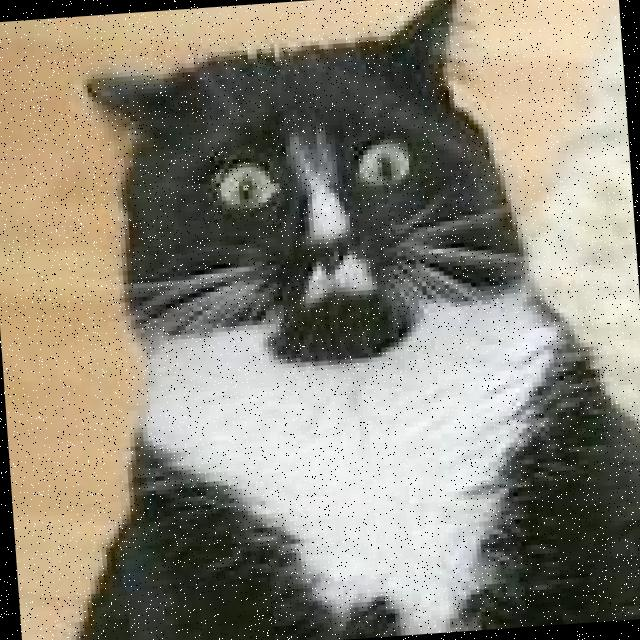Surprised: (170, 125, 468, 352)
